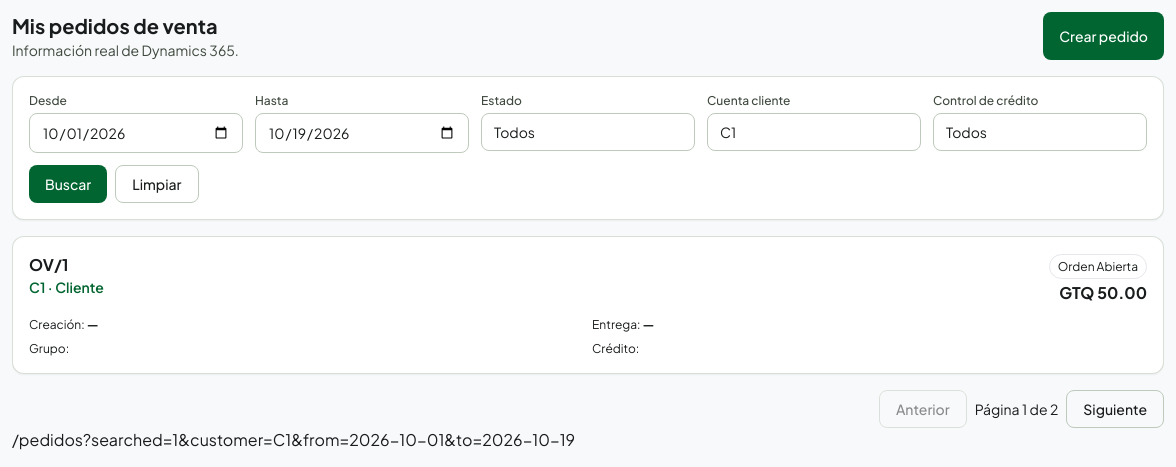
Scenario: OrdersPage filters, history and recovery › omits blank optional fields, retains search filters during pagination and disables bounds
Expected: the button "Anterior" is disabled, [879,390,967,428]
Click the button "Siguiente".
click(1115, 409)  # box [1066,390,1164,428]
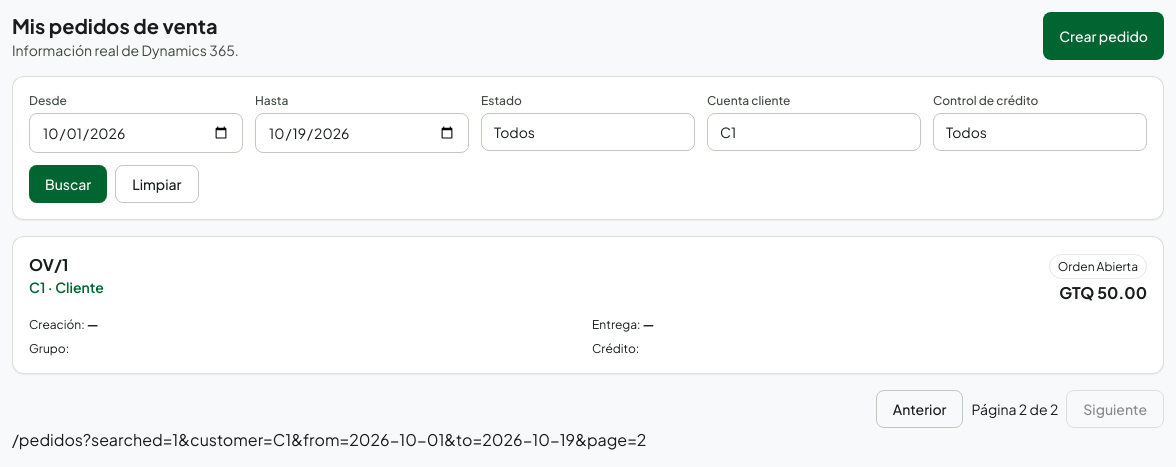
Result: the button "Siguiente" is disabled at [1066,390,1164,428]
Click the button "Anterior".
click(920, 409)  # box [876,390,963,428]
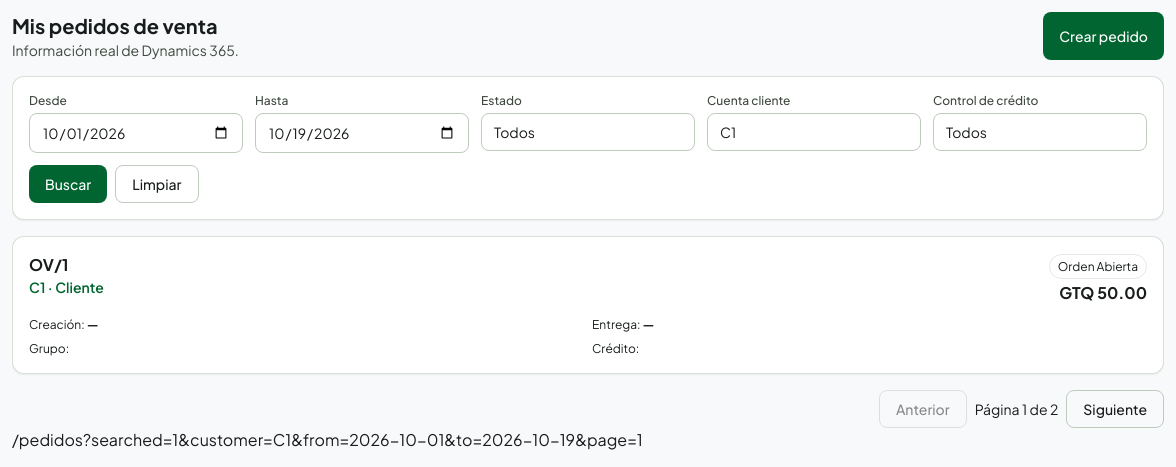
Clear the field labelled "Cuenta cliente" at [814, 132], box [707,113,921,151]
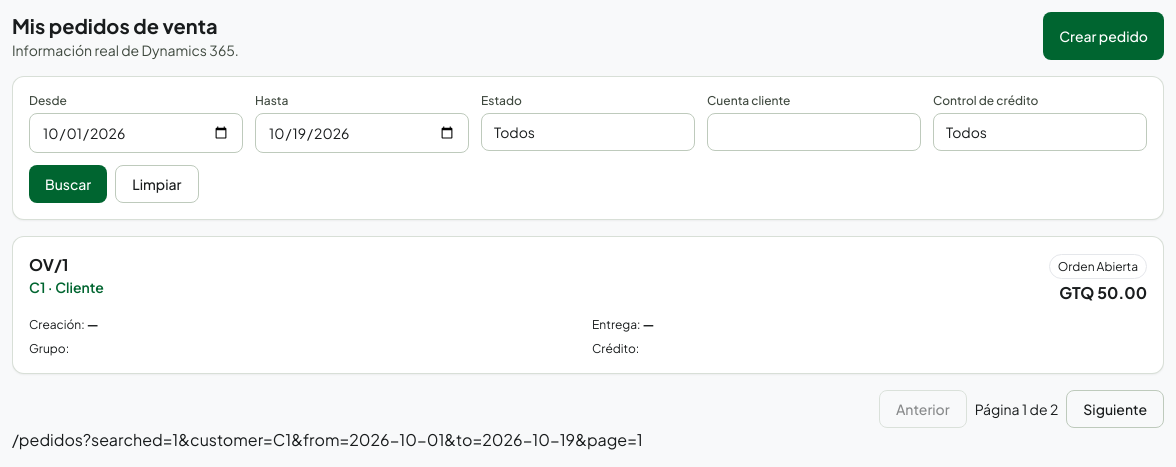
Clear the date field labelled "Desde" at [136, 133], box [29,113,243,153]
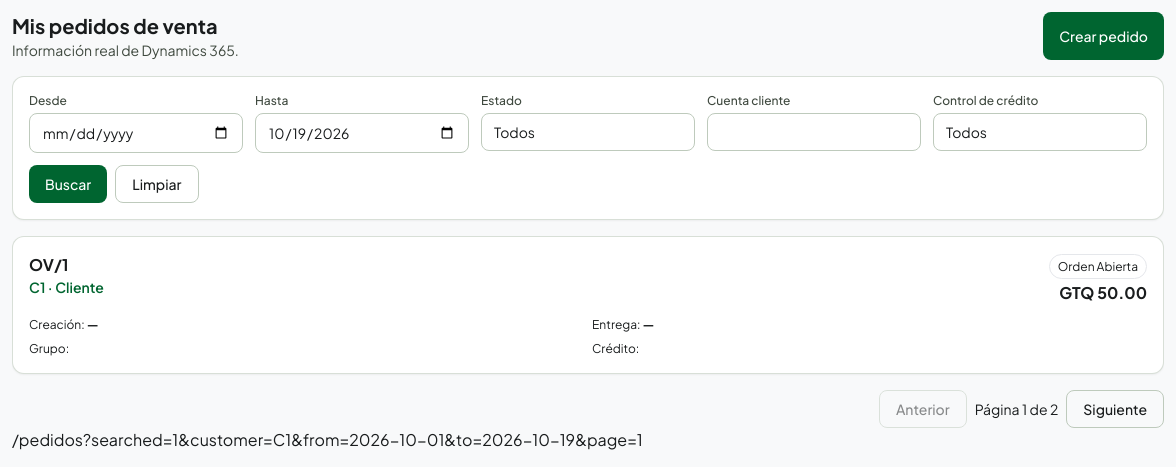
Clear the date field labelled "Hasta" at [362, 133], box [255,113,469,153]
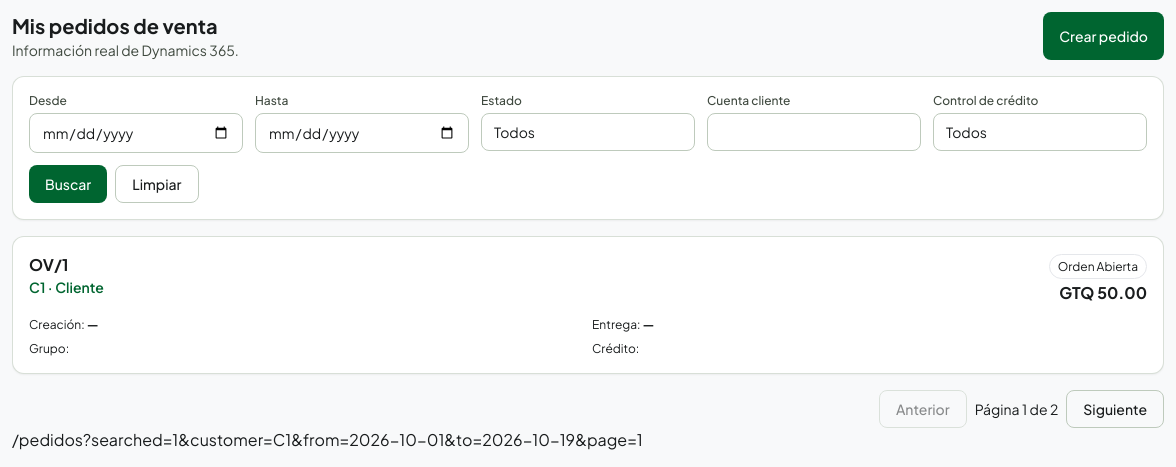
Click the button "Buscar".
click(68, 184)  # box [29,165,107,203]
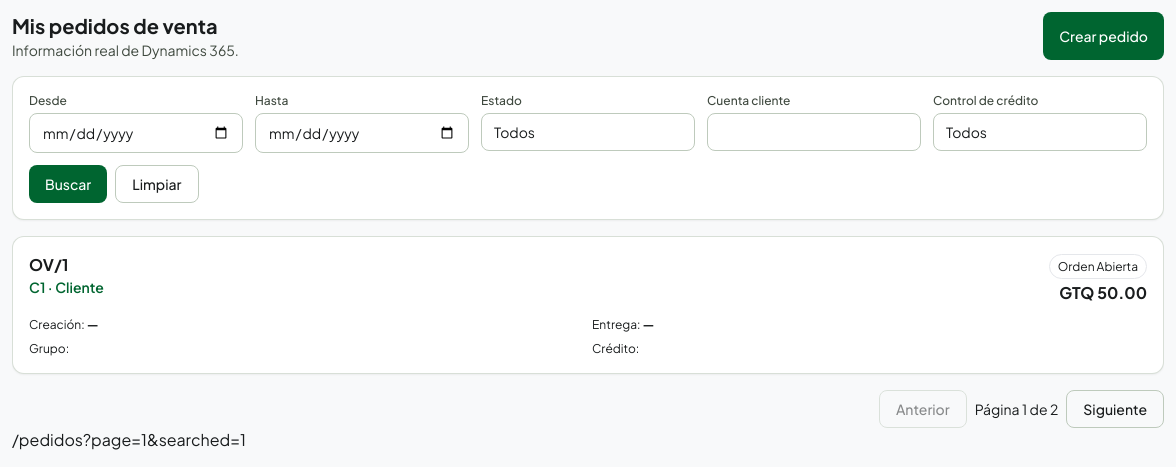
Result: the text with test id "location" reads "/pedidos?page=1&searched=1" at [12,429,246,450]
